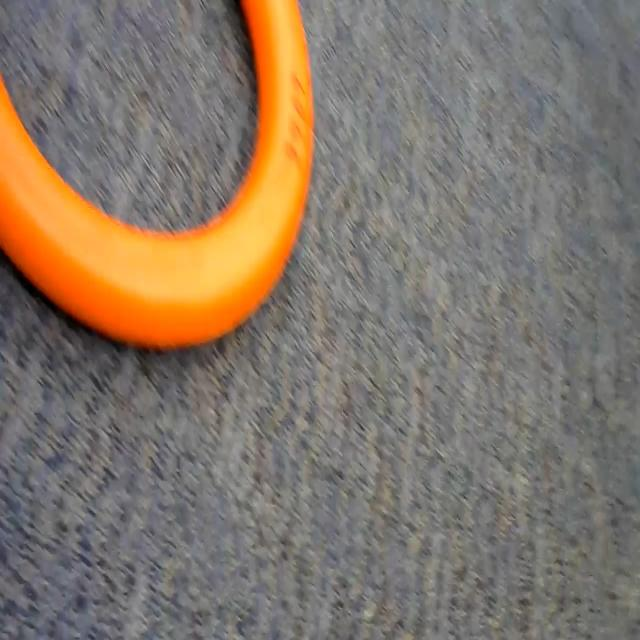note: (0, 0, 326, 357)
